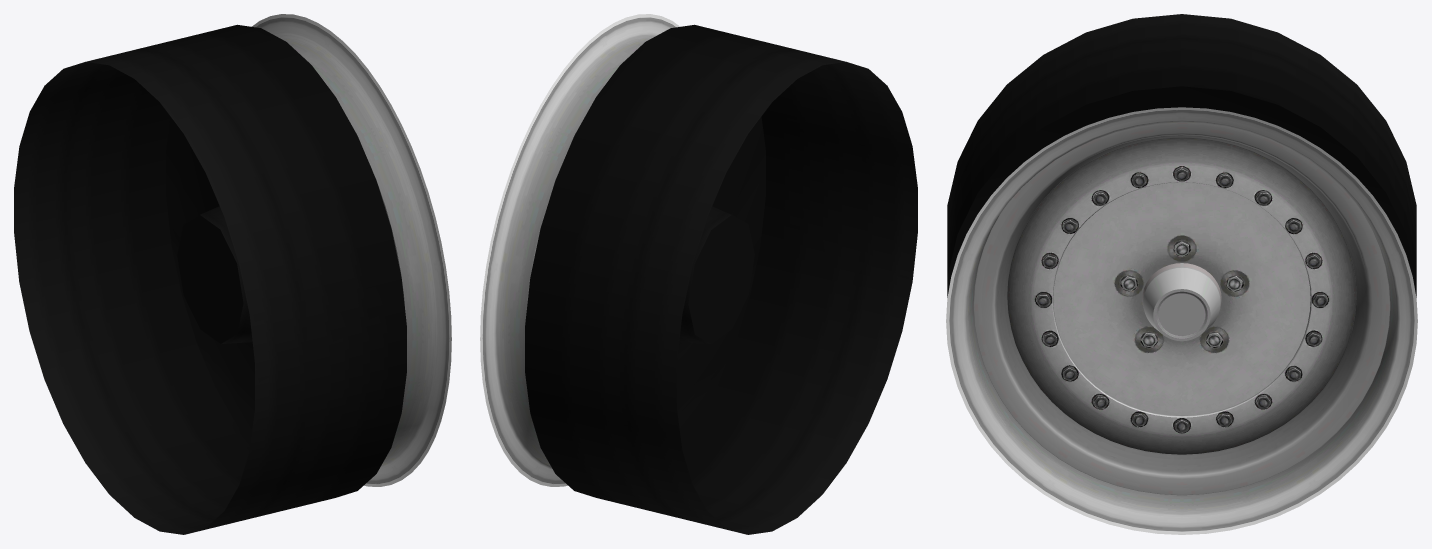
Rendered from wheel114.fbx.
3 views of the same model, side by side, from view 1: azimuth 30°, elevation 25°; view 2: azimuth 150°, elevation 25°; view 3: azimuth 270°, elevation 25° (orthographic). The views are drawn at different scales.
Parts seen in each view (by area): view 1: hol_solid_wheel_wheel_inner_rim_, wheel_rim; view 2: hol_solid_wheel_wheel_inner_rim_, wheel_rim; view 3: hol_solid_wheel_wheel_chrome_rim_, wheel_rim, hol_solid_wheel_wheel_inner_rim_.
Boxes of the visible parts, <box> form: hol_solid_wheel_wheel_inner_rim_: <box>14,24,406,534</box>; wheel_rim: <box>252,14,451,486</box>; hol_solid_wheel_wheel_inner_rim_: <box>525,24,917,534</box>; wheel_rim: <box>480,14,679,486</box>; hol_solid_wheel_wheel_chrome_rim_: <box>1007,137,1356,454</box>; wheel_rim: <box>946,107,1417,534</box>; hol_solid_wheel_wheel_inner_rim_: <box>947,14,1416,297</box>.
Size of the model in its own units: 0.2248 by 0.48 by 0.48.
1 material, 1 textured.
